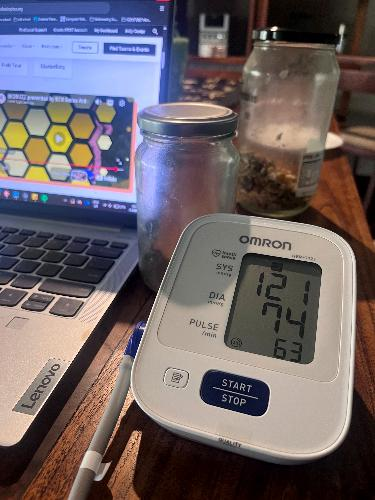bpm: (219, 244, 338, 369)
